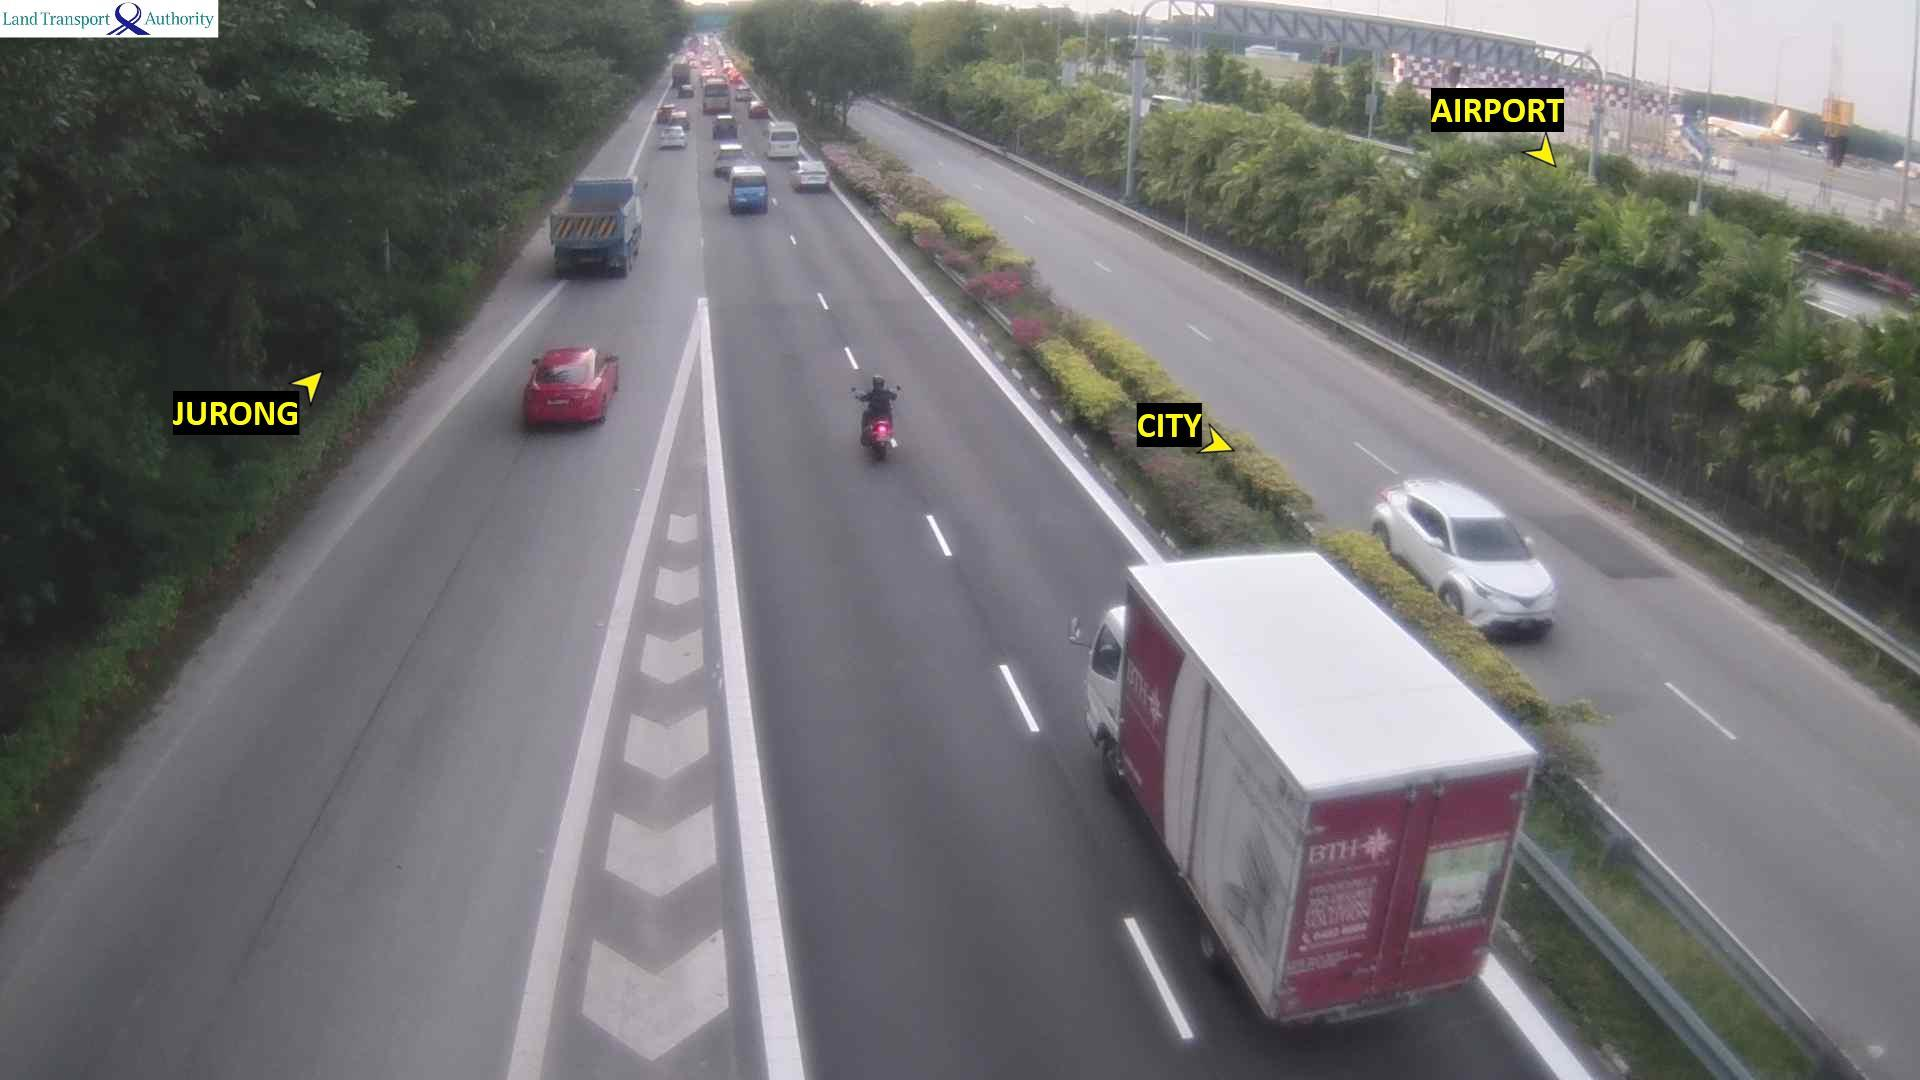incoming: (1419, 509, 1563, 649)
